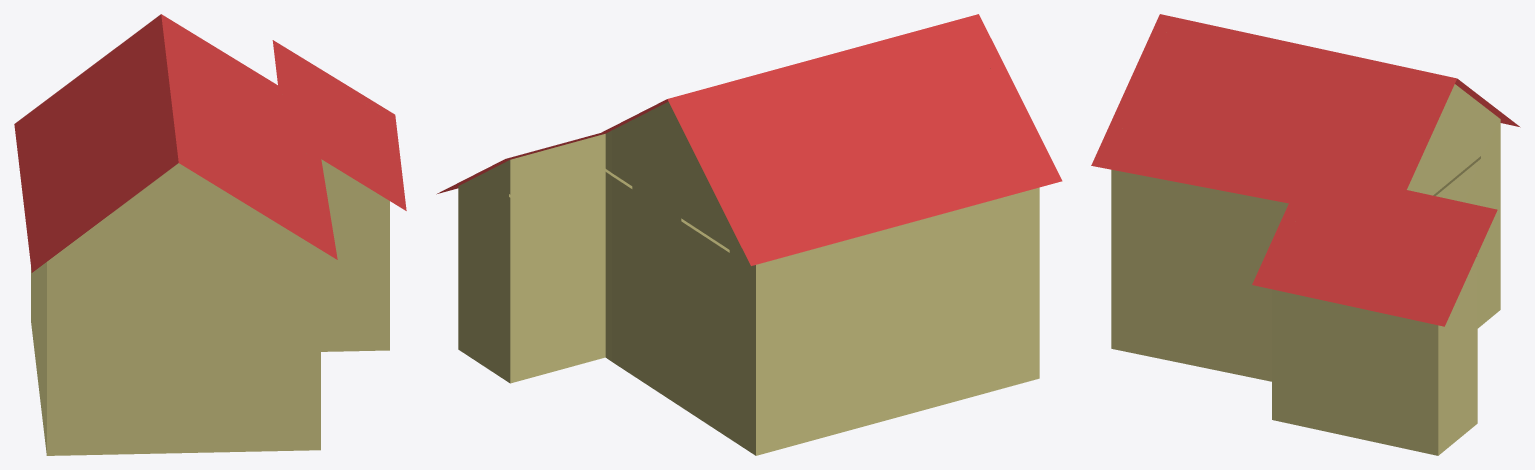
3 renders of one model, left to right at view 1: azimuth 30°, elevation 25°; view 2: azimuth 150°, elevation 25°; view 3: azimuth 270°, elevation 25°, orthographic. The views are drawn at different scales.
Size of the model in its own units: 17.58 by 14.39 by 10.39.
